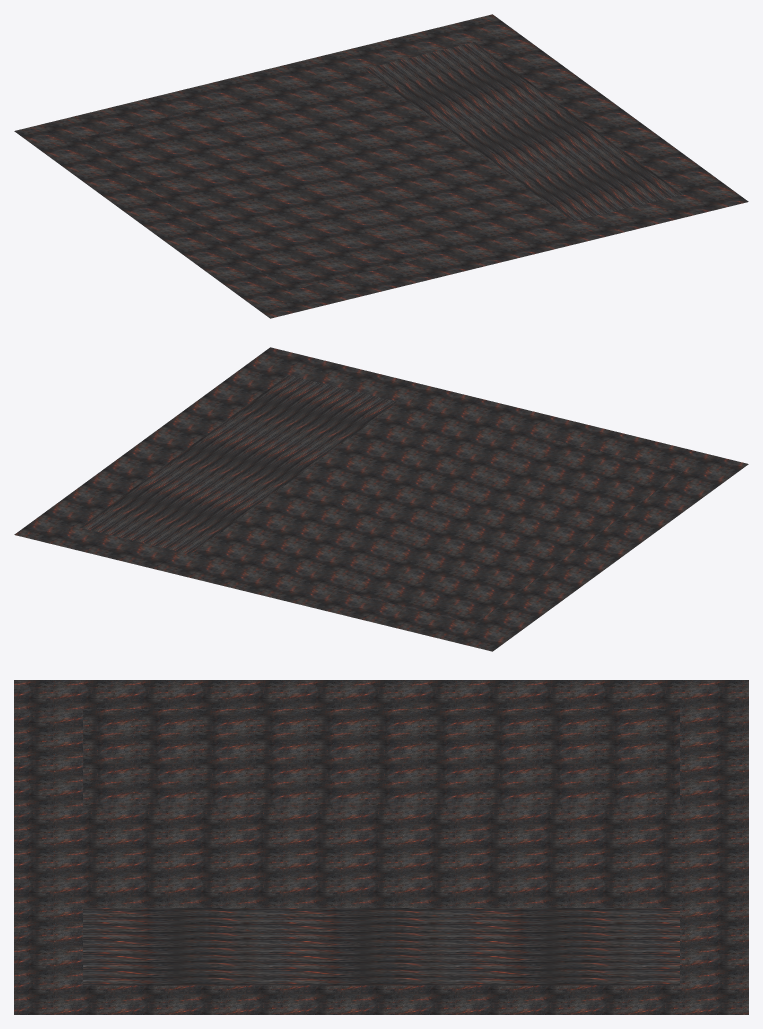
File: terrain-cinder-span-floor.glb
The picture shows the model from 3 angles, top to bottom: view 1: azimuth 30°, elevation 25°; view 2: azimuth 150°, elevation 25°; view 3: azimuth 270°, elevation 25°; orthographic projection. The views are drawn at different scales.
Parts seen in each view (by area): view 1: terrain-cinder-span-apron-001, terrain-cinder-span-slab-002, terrain-cinder-span-slab-001, terrain-cinder-span-slab-003; view 2: terrain-cinder-span-apron-001, terrain-cinder-span-slab-002, terrain-cinder-span-slab-001, terrain-cinder-span-slab-003; view 3: terrain-cinder-span-apron-001, terrain-cinder-span-slab-002, terrain-cinder-span-slab-001, terrain-cinder-span-slab-003.
Part boxes in pixels (x1,y1,x2,y2): terrain-cinder-span-apron-001: (14, 14, 748, 318); terrain-cinder-span-slab-002: (219, 69, 571, 256); terrain-cinder-span-slab-001: (80, 104, 425, 290); terrain-cinder-span-slab-003: (364, 42, 682, 221); terrain-cinder-span-apron-001: (14, 347, 748, 651); terrain-cinder-span-slab-002: (191, 402, 543, 589); terrain-cinder-span-slab-001: (337, 437, 682, 623); terrain-cinder-span-slab-003: (80, 375, 398, 554); terrain-cinder-span-apron-001: (14, 680, 748, 1014); terrain-cinder-span-slab-002: (83, 806, 679, 907); terrain-cinder-span-slab-001: (83, 709, 679, 806); terrain-cinder-span-slab-003: (83, 908, 679, 985).
Size of the model in its own units: 32.2 by 0.002 by 29.87.
Materials: 4 (4 with a texture image).
